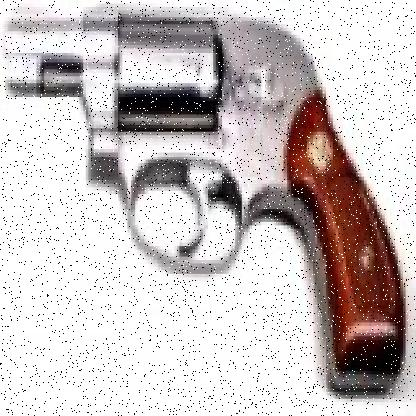pistol: (10, 3, 405, 398)
